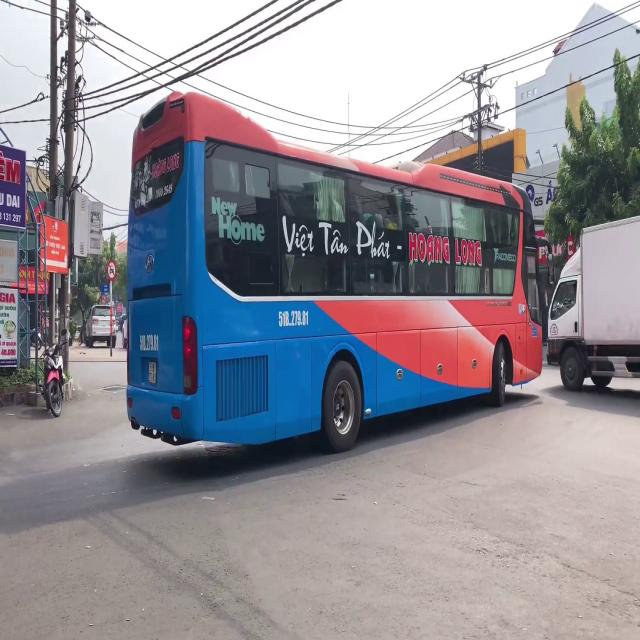bien_trang: (147, 358, 158, 388)
